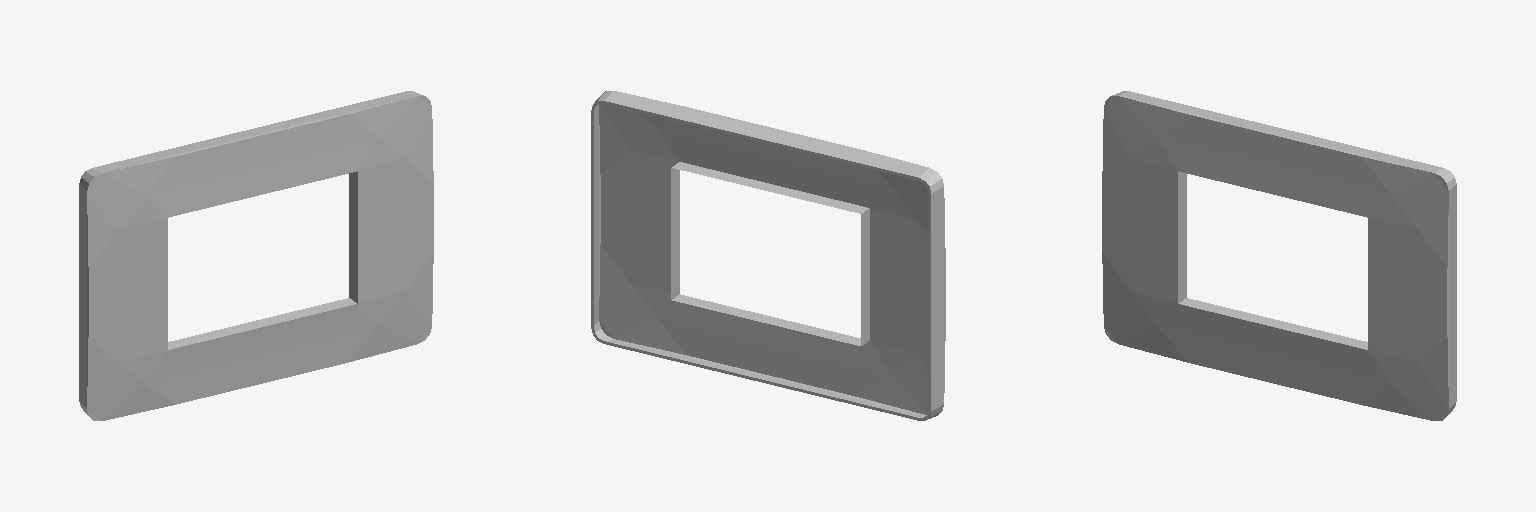
File: original-2.obj
The picture shows the model from 3 angles: view 1: azimuth 30°, elevation 25°; view 2: azimuth 150°, elevation 25°; view 3: azimuth 330°, elevation 25°; orthographic projection.
Visible parts, largest first — view 1: #ID5; view 2: #ID5; view 3: #ID5.
Part boxes in pixels (x1,y1,x2,y2): #ID5: (79, 91, 433, 420); #ID5: (591, 91, 945, 420); #ID5: (1102, 91, 1456, 420).
Size of the model in its own units: 1.7 by 1.17 by 0.1134.